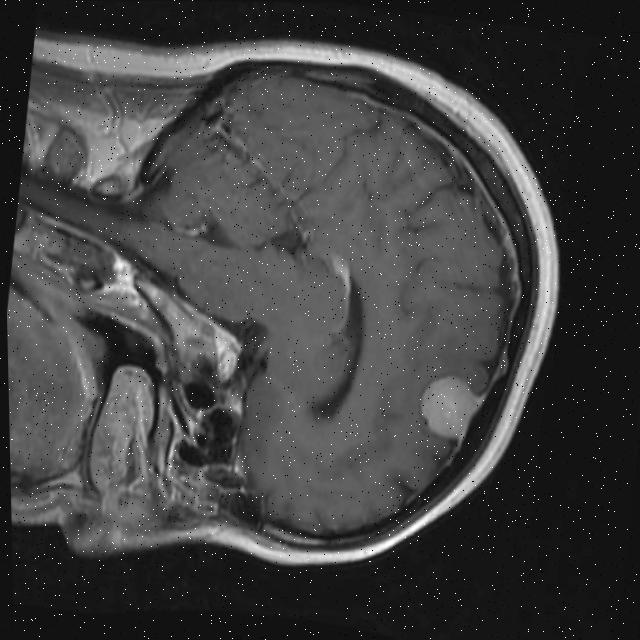Meningioma: (412, 368, 490, 449)
